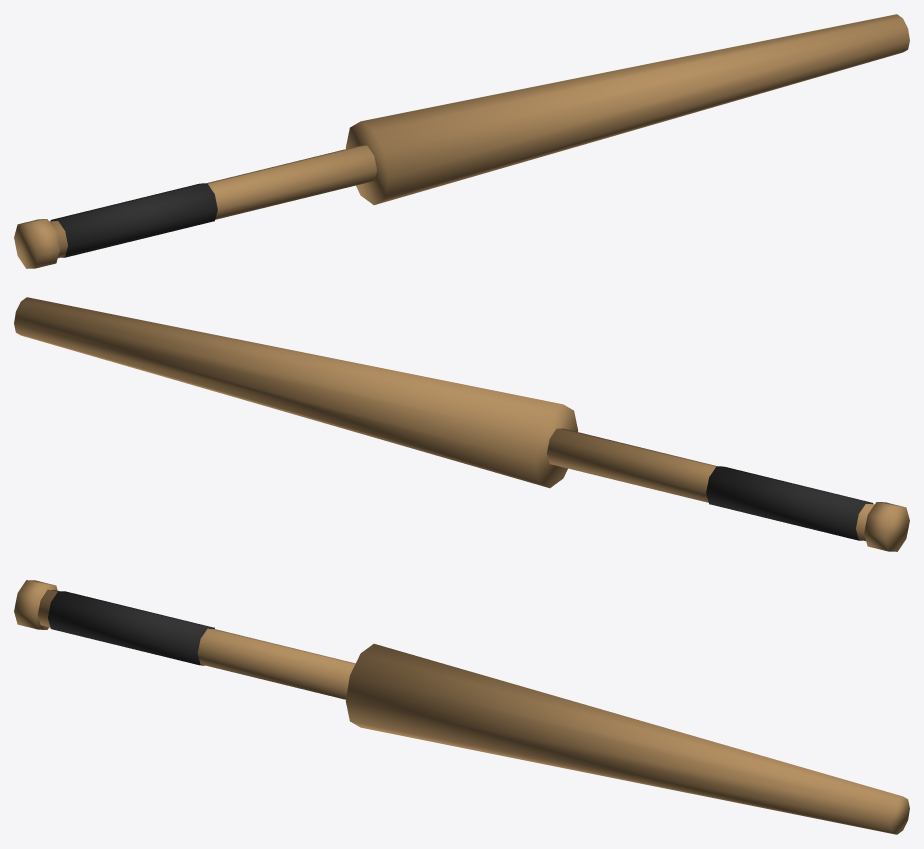
The model's file is bat.glb.
The picture shows the model from 3 angles, top to bottom: view 1: azimuth 30°, elevation 25°; view 2: azimuth 150°, elevation 25°; view 3: azimuth 330°, elevation 25°; orthographic projection.
Parts seen in each view (by area): view 1: Item; view 2: Item; view 3: Item.
Boxes of the visible parts, bbox=[...] form: Item: bbox=[14, 14, 909, 268]; Item: bbox=[14, 297, 909, 551]; Item: bbox=[14, 580, 909, 834].
Bounding box in the file's own units: 0.82 × 0.0666 × 0.07.
